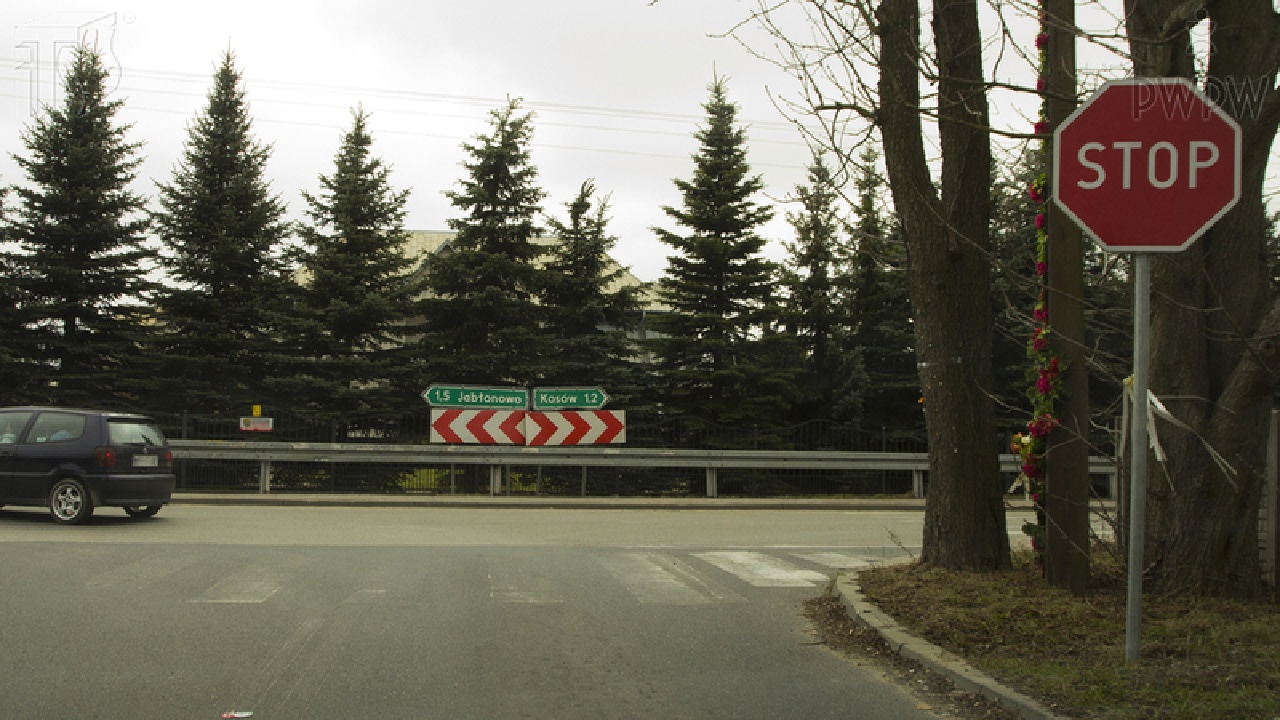B20: (1054, 83, 1242, 255)
